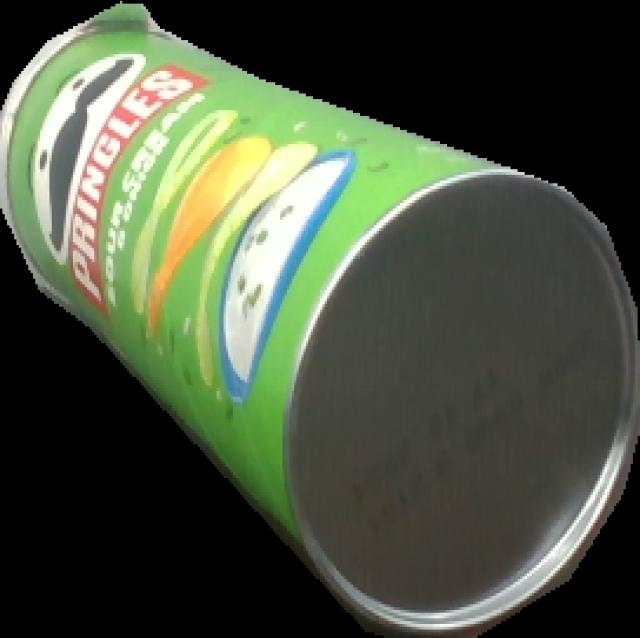pringles: (0, 1, 640, 638)
